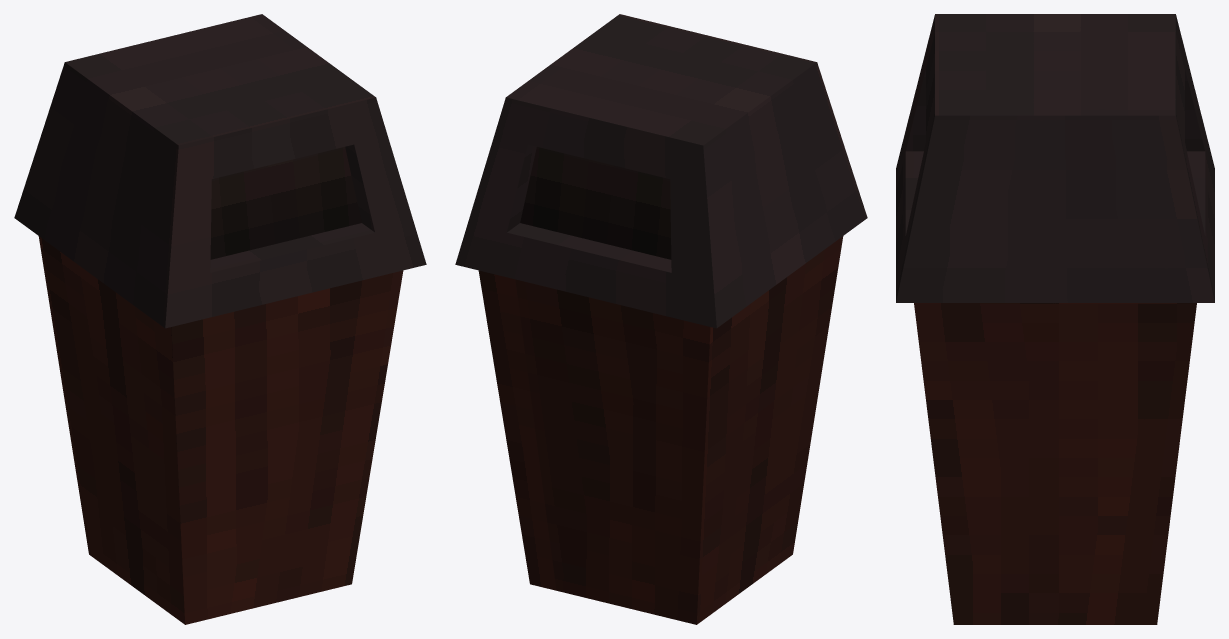
File: Garbage_1.fbx
3 views of the same model, side by side, from view 1: azimuth 30°, elevation 25°; view 2: azimuth 150°, elevation 25°; view 3: azimuth 270°, elevation 25° (orthographic). The views are drawn at different scales.
Visible parts, largest first — view 1: Garbage_1; view 2: Garbage_1; view 3: Garbage_1.
Part boxes in pixels (left/top/right/bottom): Garbage_1: left=14, top=14, right=426, bottom=624; Garbage_1: left=455, top=14, right=867, bottom=624; Garbage_1: left=896, top=14, right=1214, bottom=624.
Size of the model in its own units: 19.94 by 35.69 by 19.94.
